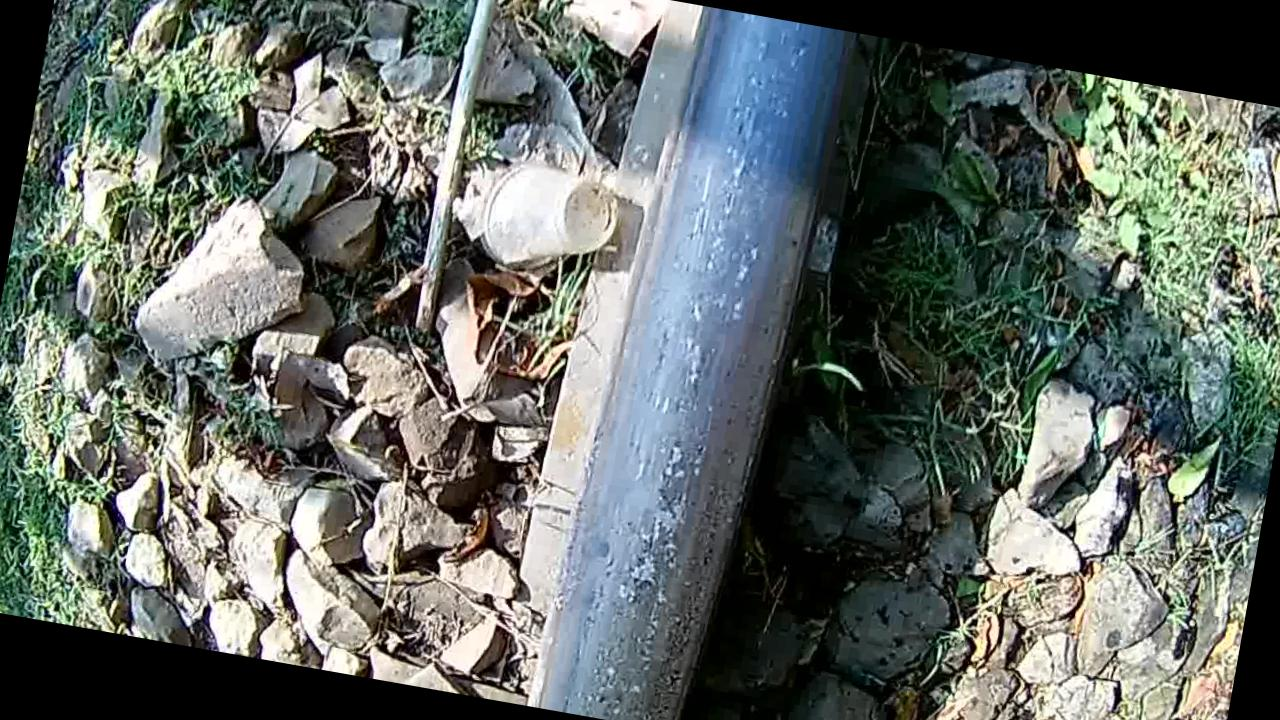clip_missing: (526, 0, 857, 720)
